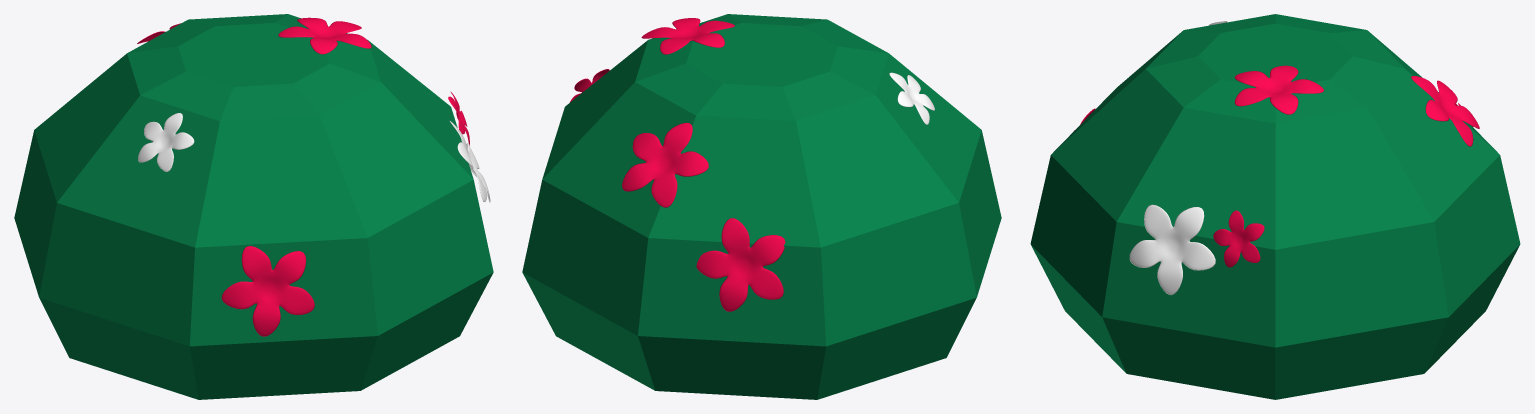
File: M_bush3.fbx
3 views of the same model, side by side, from view 1: azimuth 30°, elevation 25°; view 2: azimuth 150°, elevation 25°; view 3: azimuth 270°, elevation 25° (orthographic).
Visible parts, largest first — view 1: Plane.002; view 2: Plane.002; view 3: Plane.002.
Boxes of the visible parts, <box> form: Plane.002: <box>14,14,493,399</box>; Plane.002: <box>522,14,1001,399</box>; Plane.002: <box>1030,14,1520,399</box>.
Bounding box in the file's own units: 189 × 112 × 189.
